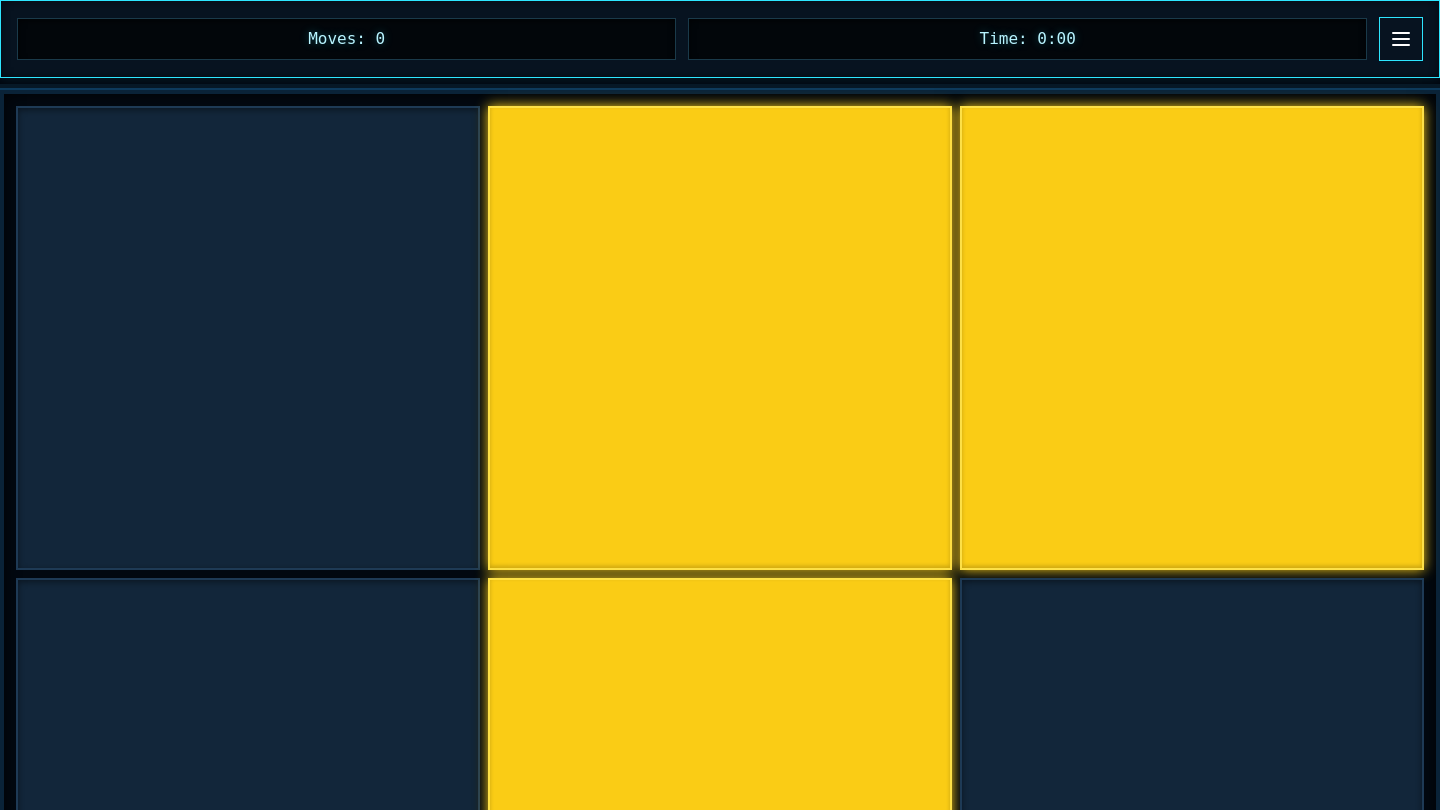
it: GameScreen › opens the help dialog from How to play
Click the button named "Open game menu": coordinates (1401, 39) left=1379, top=17, right=1423, bottom=61
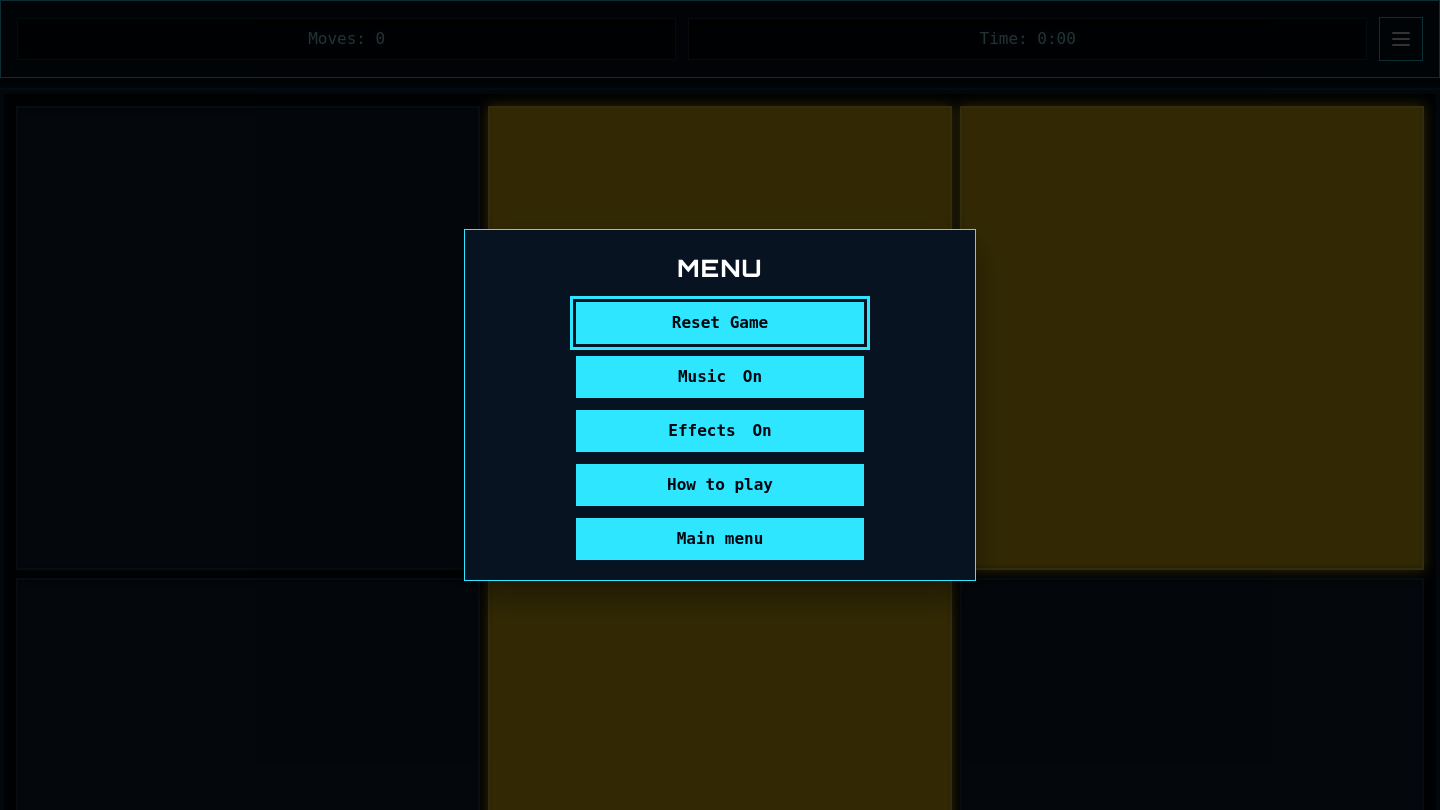
Click the button "How to play": coordinates (720, 485) left=576, top=464, right=864, bottom=506
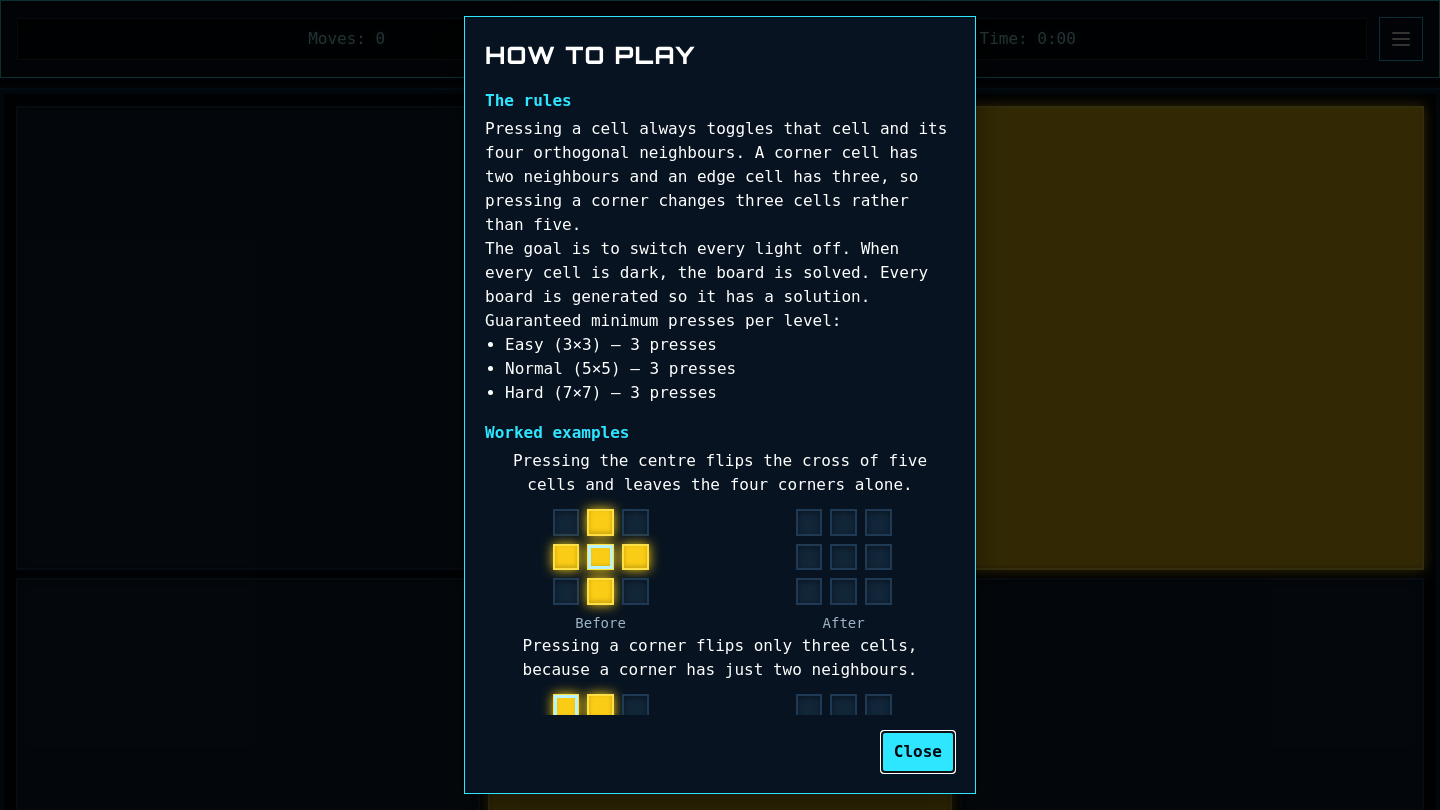
Result: the heading "How to play" is shown at left=485, top=40, right=696, bottom=70
Result: the heading "Menu" is gone
